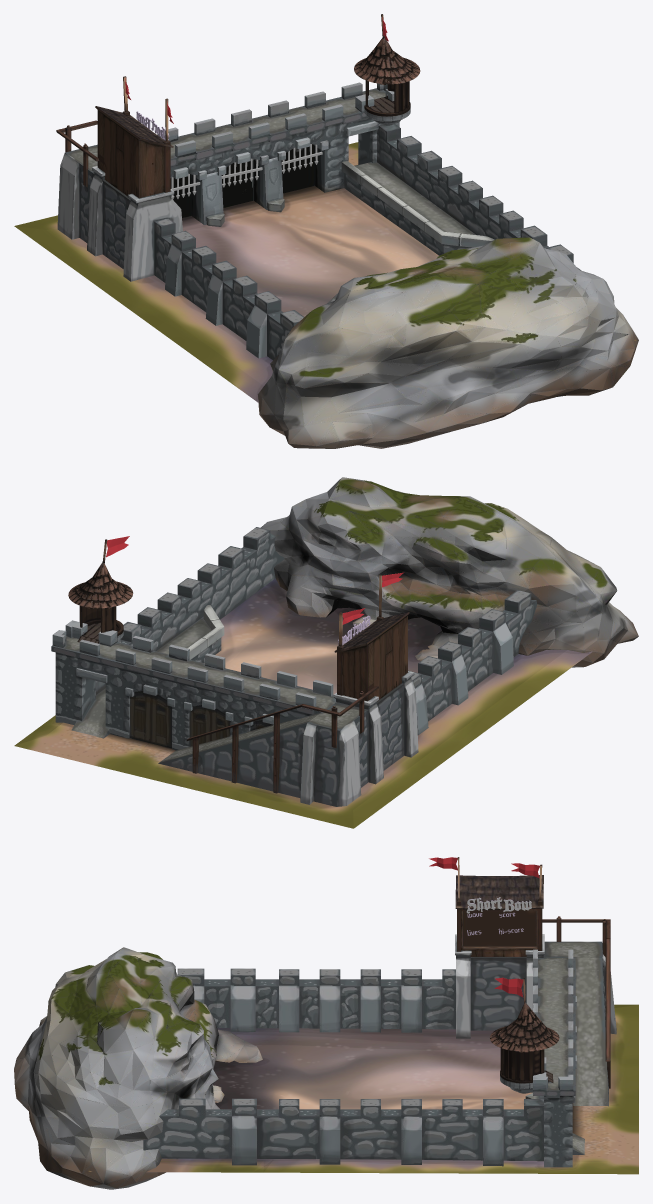
Rendered from shortbow-combined-meshes.fbx.
The picture shows the model from 3 angles, top to bottom: view 1: azimuth 30°, elevation 25°; view 2: azimuth 150°, elevation 25°; view 3: azimuth 270°, elevation 25°; orthographic projection. The views are drawn at different scales.
Visible parts, largest first — view 1: Plane.001; view 2: Plane.001; view 3: Plane.001.
Part boxes in pixels (x1,y1,x2,y2): Plane.001: [14, 14, 638, 448]; Plane.001: [14, 477, 638, 828]; Plane.001: [14, 857, 638, 1189].
Bounding box in the file's own units: 2662 × 1424 × 3935.
Materials: 10 (5 with a texture image).
